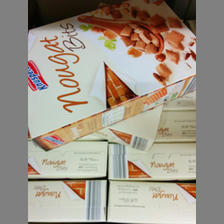cereal: (28, 1, 196, 153)
